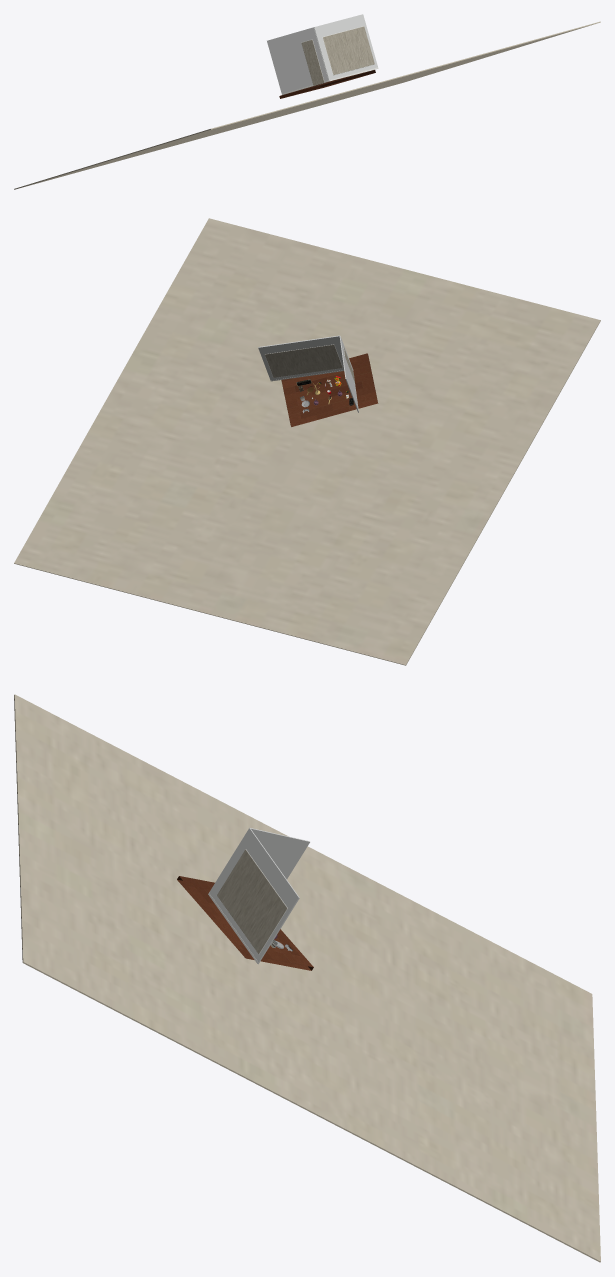
Rendered from viga.glb.
The picture shows the model from 3 angles, top to bottom: view 1: azimuth 30°, elevation 25°; view 2: azimuth 150°, elevation 25°; view 3: azimuth 270°, elevation 25°; orthographic projection. The views are drawn at different scales.
Parts seen in each view (by area): view 1: Cube.048, Cube.042, Cube.045, Cube.040, Cube.047, wooden_table_mesh; view 2: Cube.048, wooden_table_mesh, Cube.045, Cube.040; view 3: Cube.048, Cube.045, Cube.040, wooden_table_mesh, Cube.042.
Part boxes in pixels (x1,y1,x2,y2): Cube.048: (14, 21, 600, 189); Cube.042: (267, 27, 328, 93); Cube.045: (323, 26, 374, 74); Cube.040: (314, 14, 377, 81); Cube.047: (301, 40, 324, 85); wooden_table_mesh: (279, 70, 375, 98); Cube.048: (14, 218, 600, 665); wooden_table_mesh: (281, 353, 378, 426); Cube.045: (265, 344, 342, 377); Cube.040: (258, 335, 343, 380); Cube.048: (14, 694, 600, 1262); Cube.045: (217, 849, 287, 953); Cube.040: (208, 828, 299, 964); wooden_table_mesh: (177, 876, 313, 970); Cube.042: (249, 827, 309, 879).
Bounding box in the file's own units: 12 × 6.25 × 10.58.
402 materials, 387 textured.
